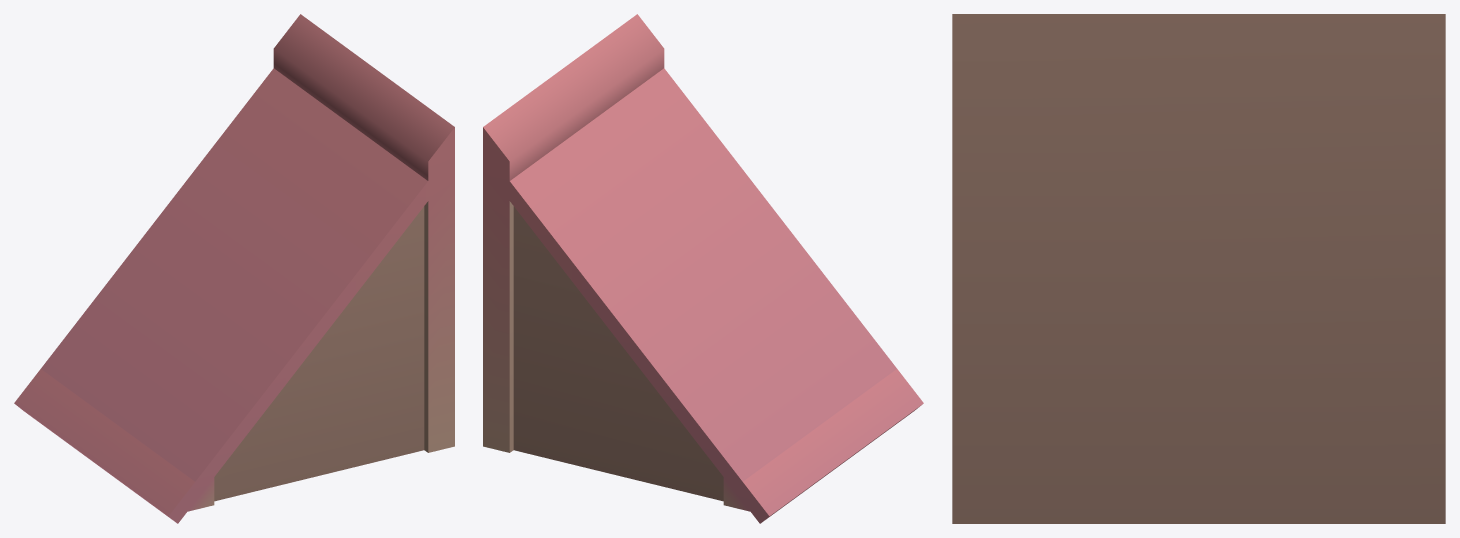
The model's file is roof-high.glb.
3 views of the same model, side by side, from view 1: azimuth 30°, elevation 25°; view 2: azimuth 150°, elevation 25°; view 3: azimuth 270°, elevation 25° (orthographic). The views are drawn at different scales.
Visible parts, largest first — view 1: roof-high; view 2: roof-high; view 3: roof-high.
Boxes of the visible parts, <box> form: roof-high: <box>14,14,454,523</box>; roof-high: <box>483,14,923,523</box>; roof-high: <box>952,14,1445,523</box>.
Size of the model in its own units: 1.07 by 1.18 by 1.
